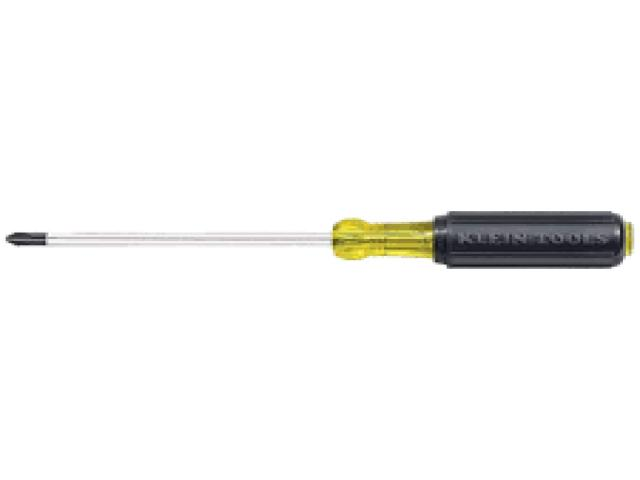Screwdriver: (6, 211, 632, 267)
